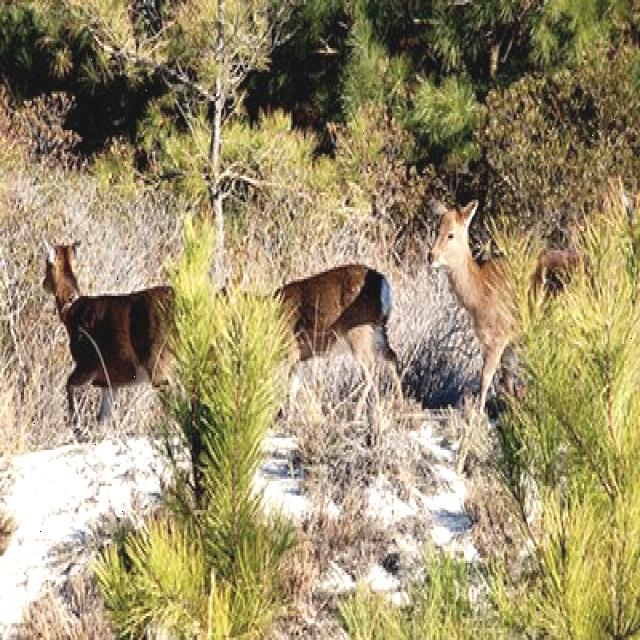deer: (24, 225, 102, 319), (416, 190, 486, 292)
